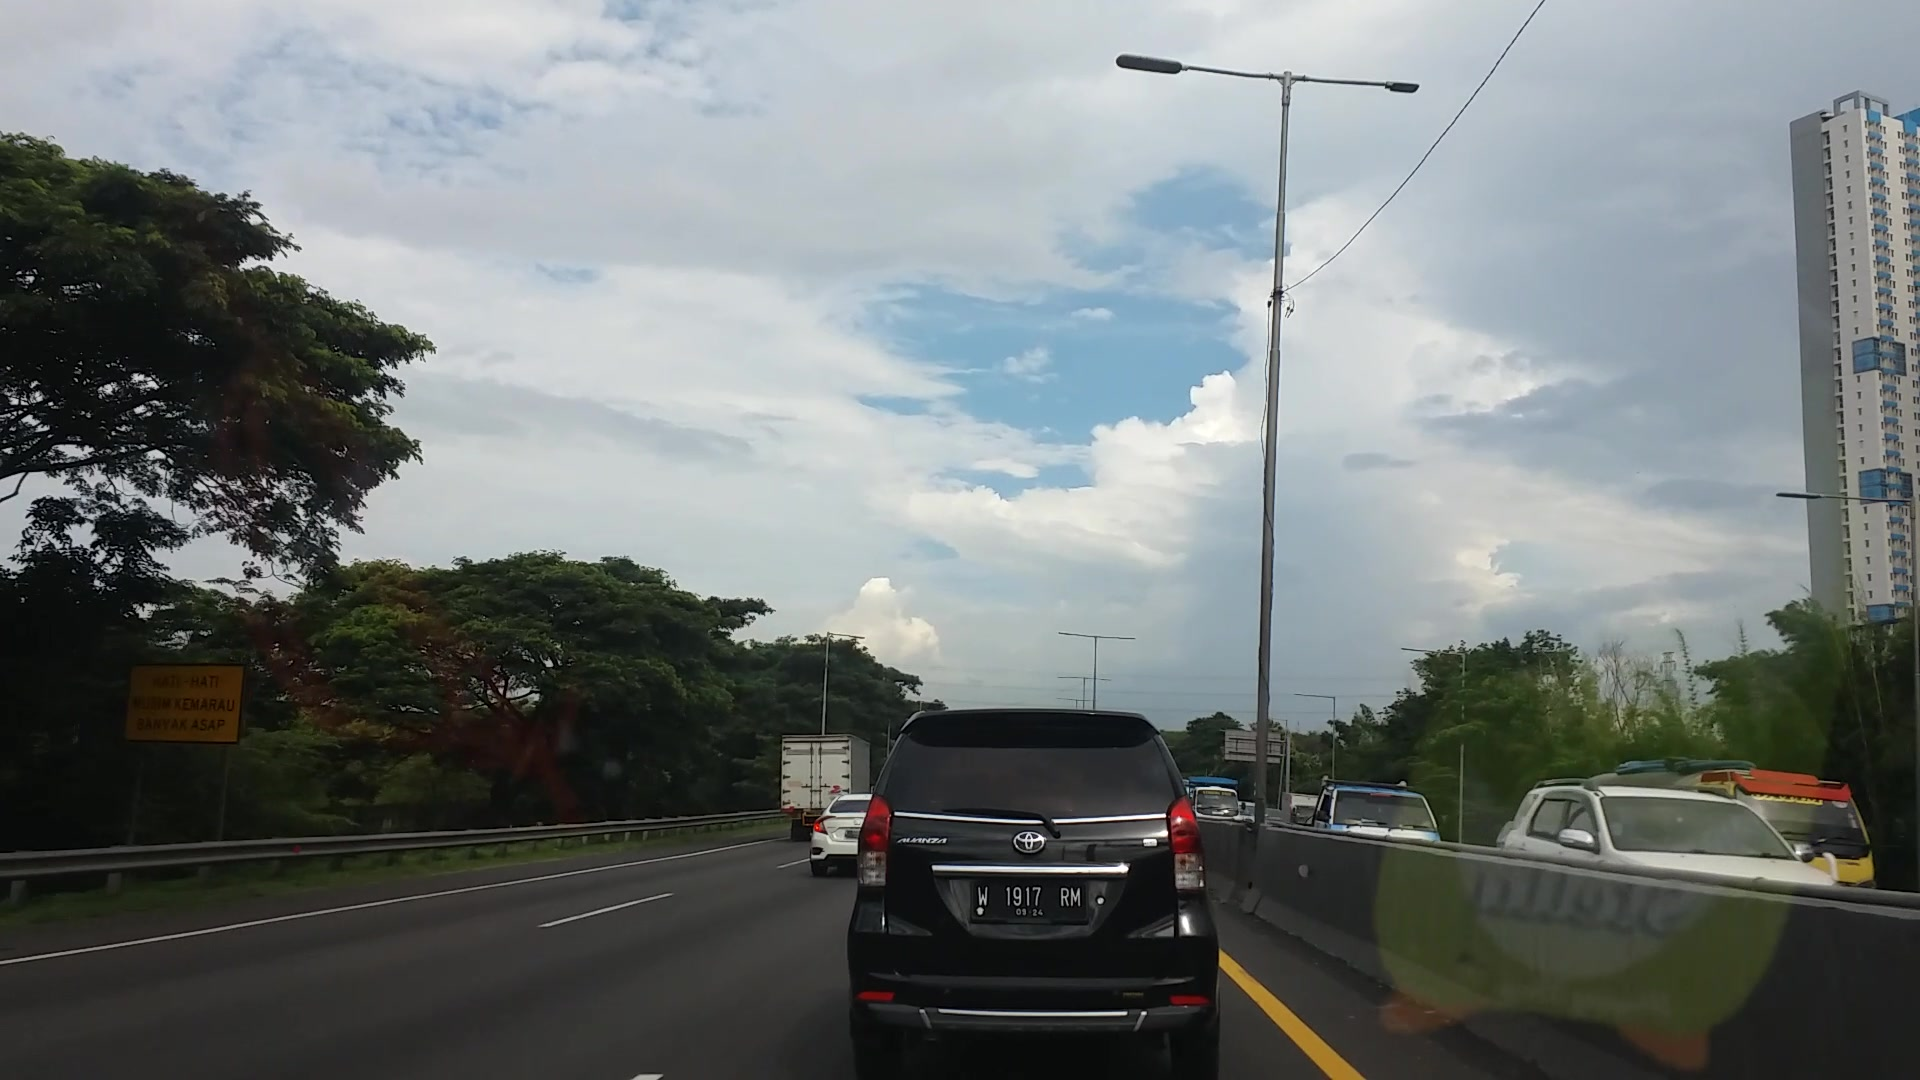plate_positive: (971, 878, 1087, 924)
